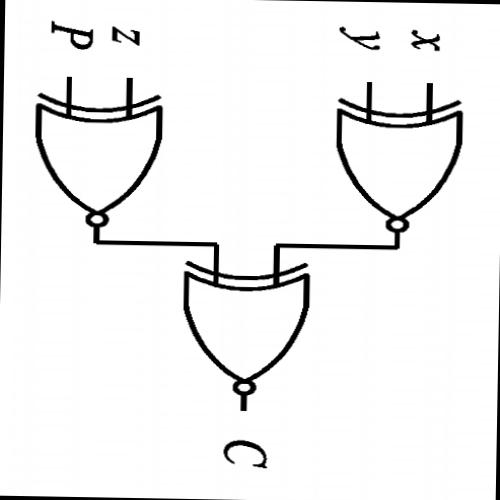xnor: (170, 258, 327, 408), (322, 93, 474, 241), (24, 89, 173, 234)
